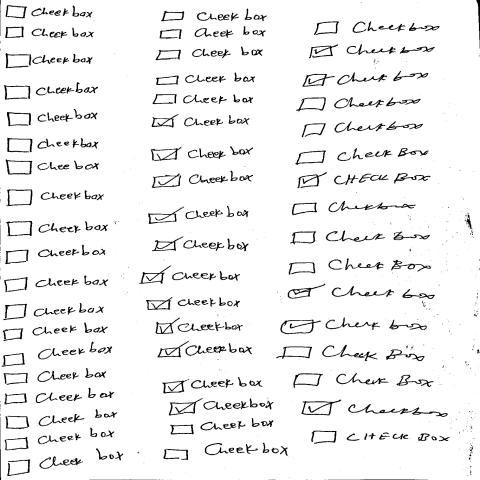Check Box: (6, 450, 127, 479), (285, 284, 440, 304), (279, 318, 434, 337), (4, 427, 119, 452), (280, 344, 423, 364), (161, 441, 290, 463), (302, 400, 449, 419), (310, 429, 452, 448), (288, 258, 434, 276), (3, 345, 120, 367), (293, 371, 435, 389), (4, 409, 119, 431), (298, 147, 431, 166), (295, 173, 433, 190), (300, 71, 428, 89), (296, 95, 424, 113), (289, 231, 431, 247), (6, 188, 108, 210), (166, 419, 276, 438), (308, 43, 436, 59), (290, 201, 415, 217), (302, 121, 425, 137), (4, 247, 108, 265), (159, 8, 269, 25), (5, 159, 103, 178), (314, 20, 438, 35), (169, 400, 277, 417), (5, 136, 101, 155), (5, 221, 112, 238), (3, 277, 109, 294), (3, 304, 108, 321), (147, 209, 252, 226), (156, 343, 254, 361), (3, 84, 100, 102), (151, 173, 253, 190), (154, 319, 250, 337), (144, 298, 247, 314), (138, 269, 241, 285), (151, 147, 254, 163), (4, 4, 94, 22), (5, 52, 94, 70), (151, 114, 251, 130), (161, 379, 267, 394), (4, 25, 96, 42), (151, 239, 255, 254), (5, 111, 96, 128), (3, 372, 110, 386), (3, 326, 110, 340), (3, 392, 118, 405), (152, 92, 256, 106)
